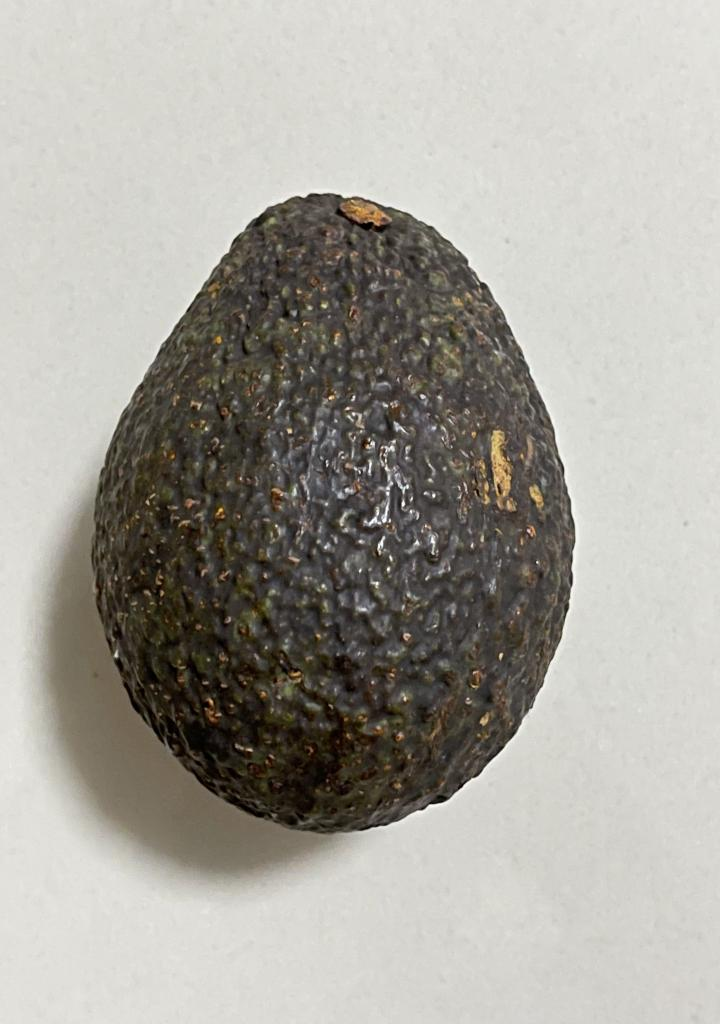Level1: (76, 180, 585, 842)
